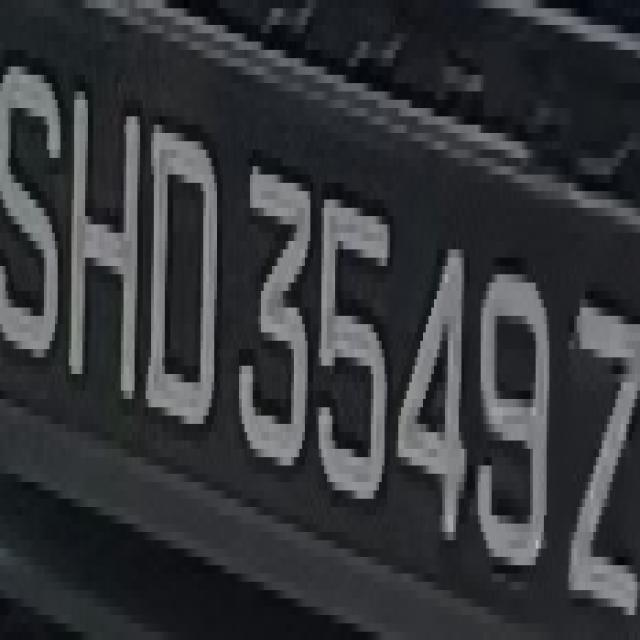3: (242, 125, 316, 482)
4: (393, 174, 464, 582)
5: (311, 141, 398, 524)
9: (478, 233, 552, 606)
D: (148, 83, 220, 457)
H: (68, 42, 146, 440)
S: (3, 33, 63, 374)
Y: (563, 249, 637, 640)
